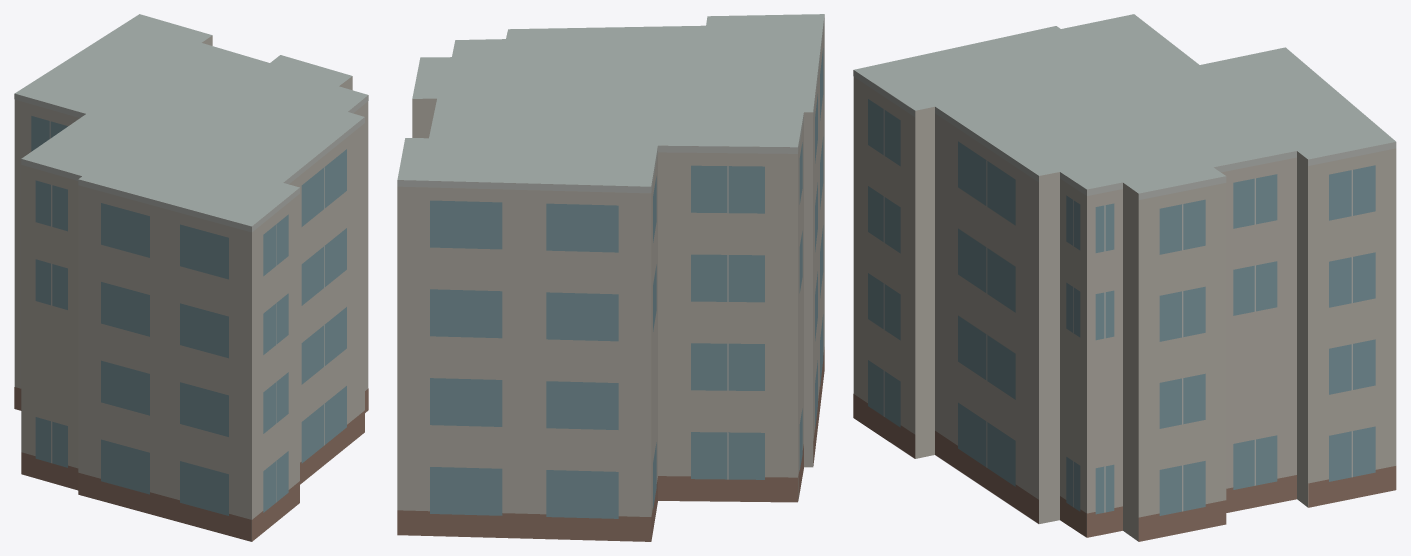
Rendered from survey-upis-32809496.glb.
3 renders of one model, left to right at view 1: azimuth 30°, elevation 25°; view 2: azimuth 150°, elevation 25°; view 3: azimuth 270°, elevation 25°, orthographic. The views are drawn at different scales.
Parts seen in each view (by area): view 1: survey-upis-32809496.tmp; view 2: survey-upis-32809496.tmp; view 3: survey-upis-32809496.tmp.
Part boxes in pixels (bbox=[...]): survey-upis-32809496.tmp: bbox=[14, 14, 368, 541]; survey-upis-32809496.tmp: bbox=[397, 14, 824, 541]; survey-upis-32809496.tmp: bbox=[853, 14, 1396, 541].
Size of the model in its own units: 14.28 by 12.9 by 18.23.
